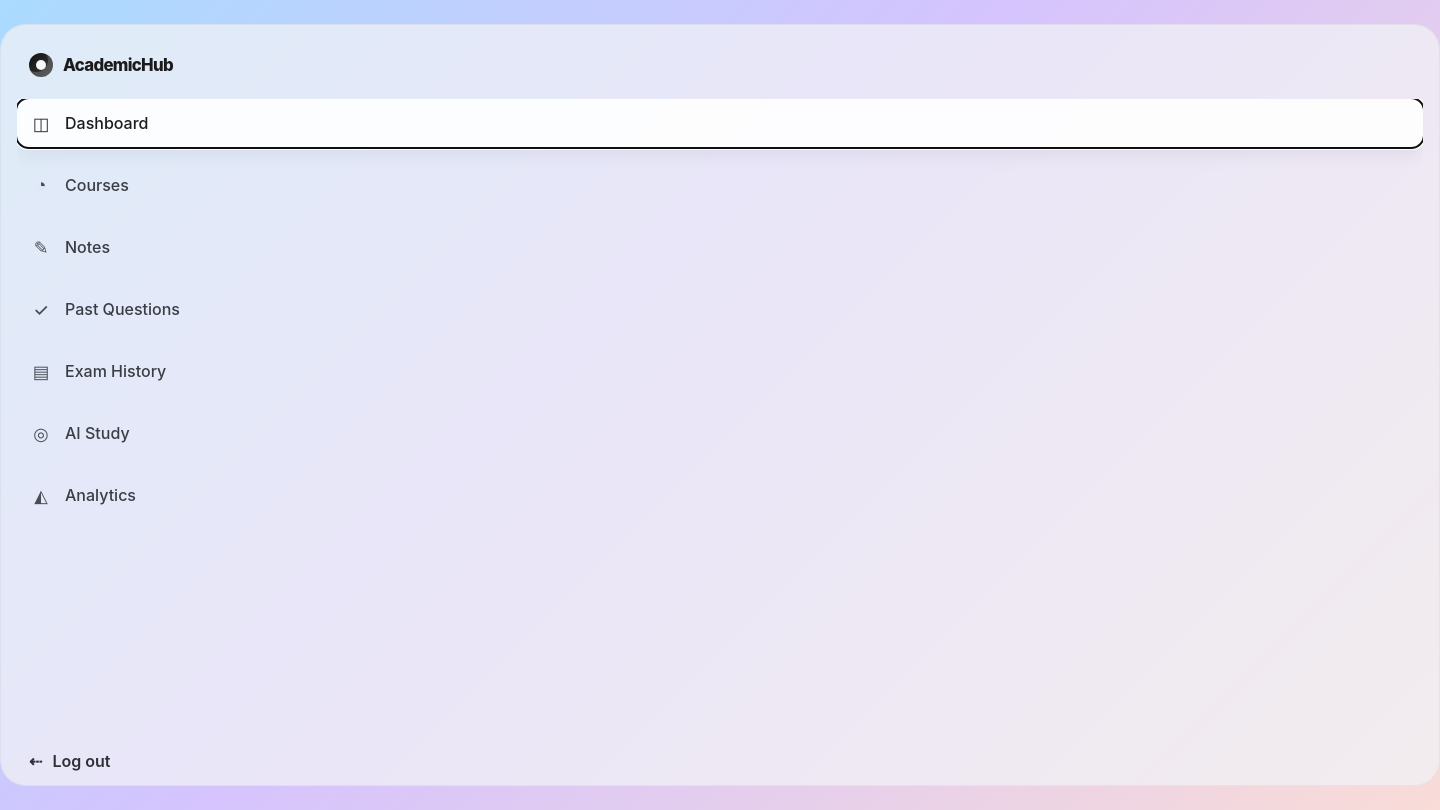
it: Sidebar navigation › opens and closes the mobile navigation and closes it after route selection
The image size is (1440, 810).
Earlier steps of the test are not shown.
Click the link "▤ Exam History": (100, 371) [33,360,166,382]
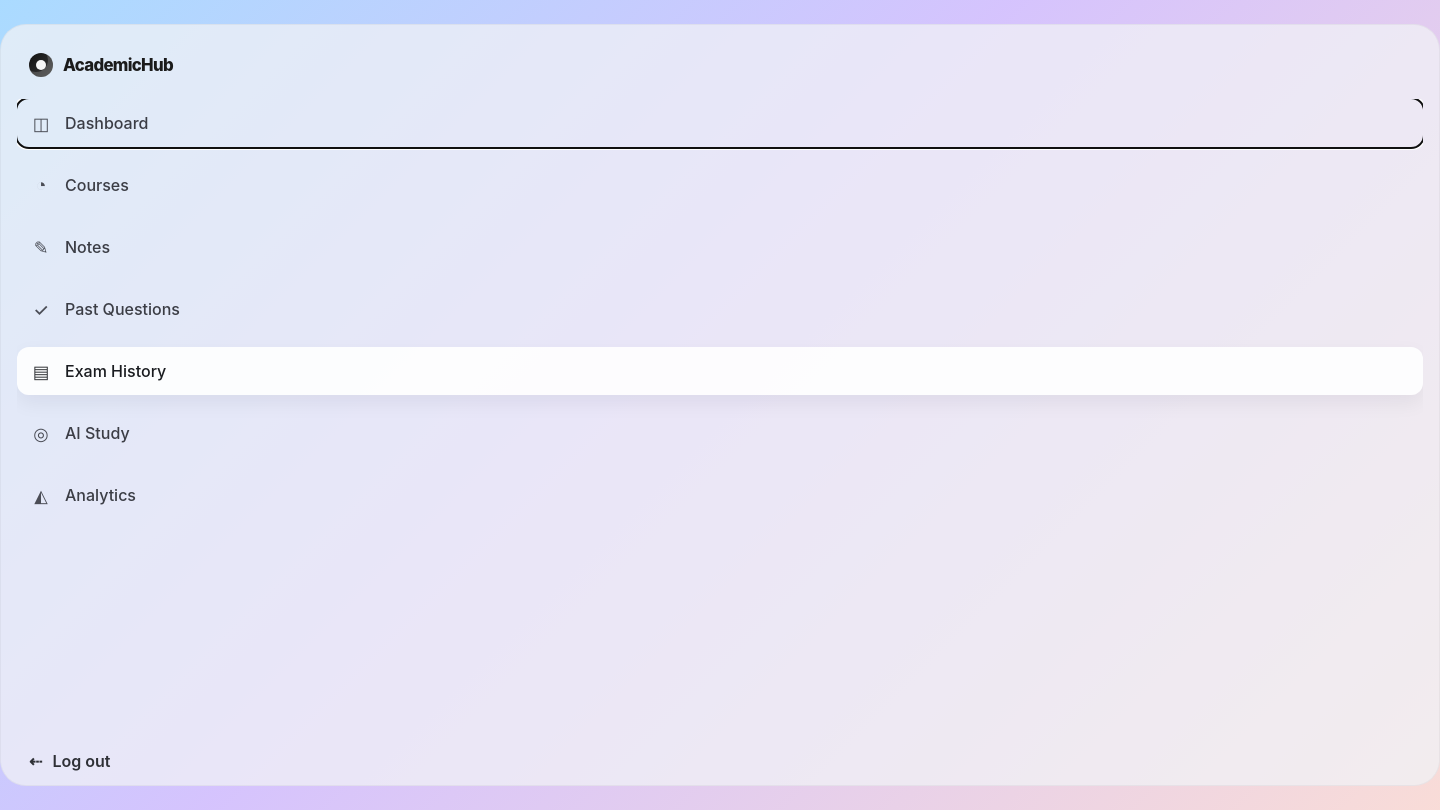
Now the element with class "sidebar-panel" does not have class "is-open"
